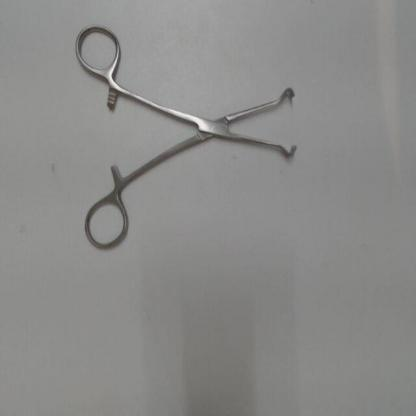Babcock Tissue Forceps: (66, 20, 303, 255)
